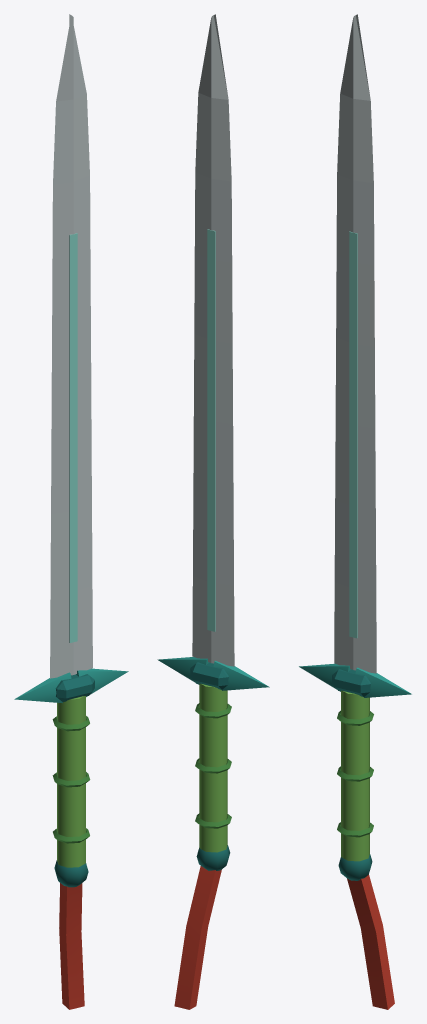
Rendered from sword_bamboo.glb.
3 renders of one model, left to right at view 1: azimuth 30°, elevation 25°; view 2: azimuth 150°, elevation 25°; view 3: azimuth 330°, elevation 25°, orthographic.
Visible parts, largest first — view 1: Sword; view 2: Sword; view 3: Sword.
Part boxes in pixels (box(x1,y1,x2,y2)): Sword: box(14, 14, 128, 1009); Sword: box(157, 14, 269, 1009); Sword: box(299, 14, 411, 1009).
Size of the model in its own units: 0.15 by 1.25 by 0.06.
